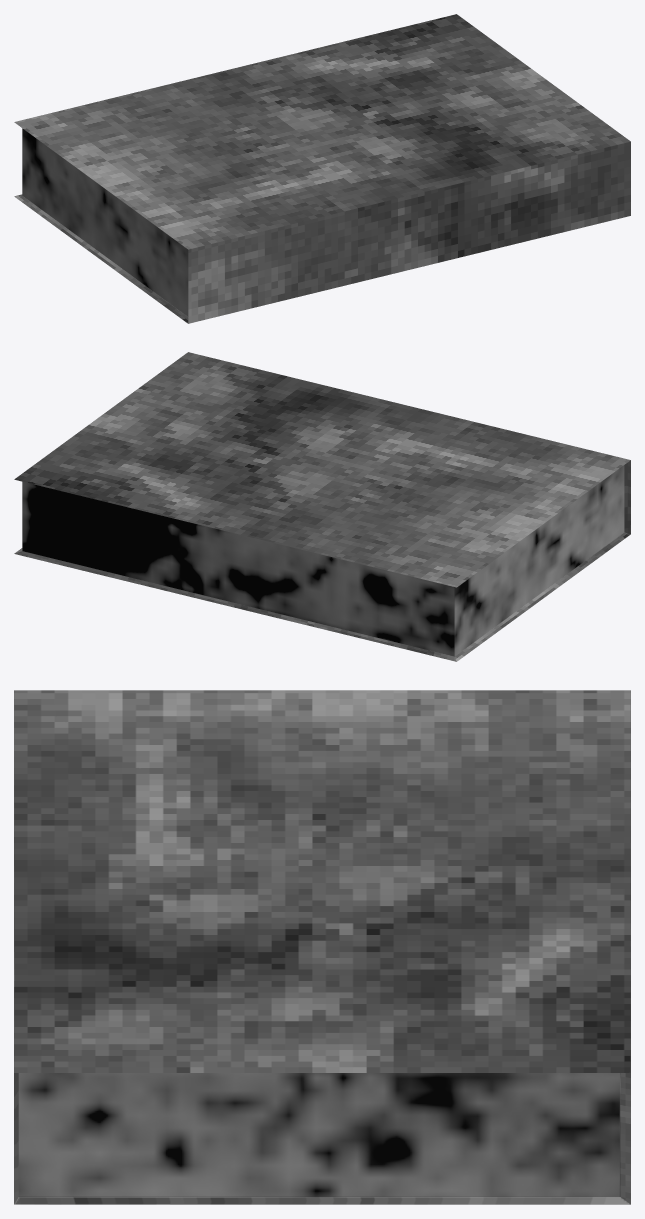
Rendered from Book.fbx.
3 renders of one model, top to bottom at view 1: azimuth 30°, elevation 25°; view 2: azimuth 150°, elevation 25°; view 3: azimuth 270°, elevation 25°, orthographic. The views are drawn at different scales.
Visible parts, largest first — view 1: Cube; view 2: Cube; view 3: Cube.
Boxes of the visible parts, x1,y1,x2,y2 form: Cube: (14,14,630,323); Cube: (14,352,630,661); Cube: (14,690,630,1204).
Bounding box in the file's own units: 1.56 × 0.25 × 1.06.
Materials: 1 (1 with a texture image).
